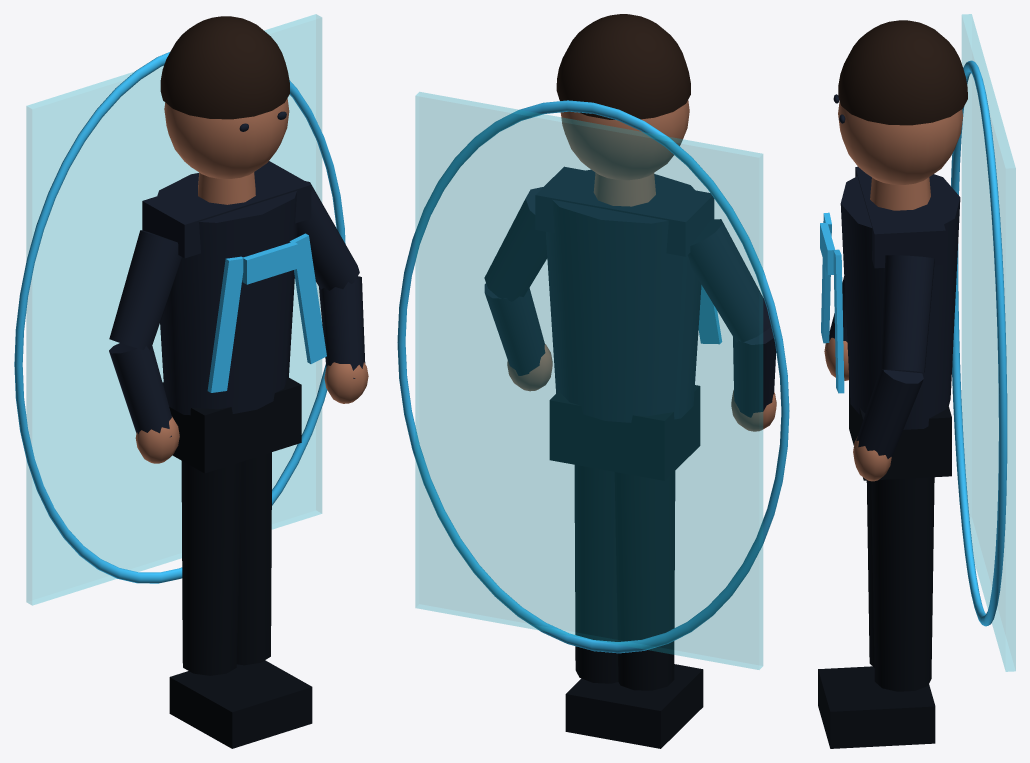
File: digitalhut-guardian-mobile.glb
3 renders of one model, left to right at view 1: azimuth 30°, elevation 25°; view 2: azimuth 150°, elevation 25°; view 3: azimuth 270°, elevation 25°, orthographic. The views are drawn at different scales.
Parts seen in each view (by area): view 1: Defensive glass shield, Torso, Left leg, Hair, Integrity scan ring, Hips, Right leg, Head, Left boot, Shoulders, Left upper arm, Right boot (+9 smaller); view 2: Defensive glass shield, Torso, Integrity scan ring, Left leg, Hair, Hips, Right leg, Head, Shoulders, Left upper arm, Left boot, Right upper arm (+7 smaller); view 3: Defensive glass shield, Torso, Right leg, Hair, Integrity scan ring, Right boot, Head, Right upper arm, Shoulders, Hips, Right forearm, Neck (+7 smaller).
Part boxes in pixels (left/top/right/bottom): Defensive glass shield: left=26, top=14, right=321, bottom=605; Torso: left=157, top=173, right=297, bottom=415; Left leg: left=181, top=461, right=241, bottom=675; Hair: left=160, top=16, right=289, bottom=119; Integrity scan ring: left=14, top=52, right=345, bottom=583; Hips: left=162, top=377, right=301, bottom=473; Right leg: left=236, top=452, right=271, bottom=665; Head: left=164, top=98, right=289, bottom=178; Left boot: left=169, top=671, right=277, bottom=748; Shoulders: left=142, top=161, right=311, bottom=258; Left upper arm: left=109, top=230, right=181, bottom=349; Right boot: left=219, top=660, right=312, bottom=737; Defensive glass shield: left=415, top=92, right=762, bottom=669; Torso: left=546, top=169, right=701, bottom=422; Integrity scan ring: left=397, top=100, right=789, bottom=653; Left leg: left=614, top=471, right=675, bottom=690; Hair: left=556, top=14, right=690, bottom=119; Hips: left=549, top=385, right=700, bottom=480; Right leg: left=574, top=465, right=618, bottom=683; Head: left=560, top=100, right=689, bottom=180; Shoulders: left=535, top=166, right=714, bottom=256; Left upper arm: left=688, top=219, right=770, bottom=342; Left boot: left=606, top=664, right=703, bottom=748; Right upper arm: left=484, top=187, right=547, bottom=301; Defensive glass shield: left=962, top=14, right=1015, bottom=671; Torso: left=840, top=174, right=960, bottom=429; Right leg: left=871, top=477, right=934, bottom=691; Hair: left=838, top=20, right=967, bottom=125; Integrity scan ring: left=951, top=60, right=1007, bottom=626; Right boot: left=823, top=684, right=935, bottom=748; Head: left=838, top=101, right=962, bottom=184; Right upper arm: left=881, top=255, right=934, bottom=373; Shoulders: left=855, top=166, right=945, bottom=268; Hips: left=849, top=377, right=951, bottom=480; Right forearm: left=854, top=367, right=923, bottom=458; Neck: left=870, top=177, right=930, bottom=210.
Size of the model in its own units: 2.43 by 4.51 by 1.16.
